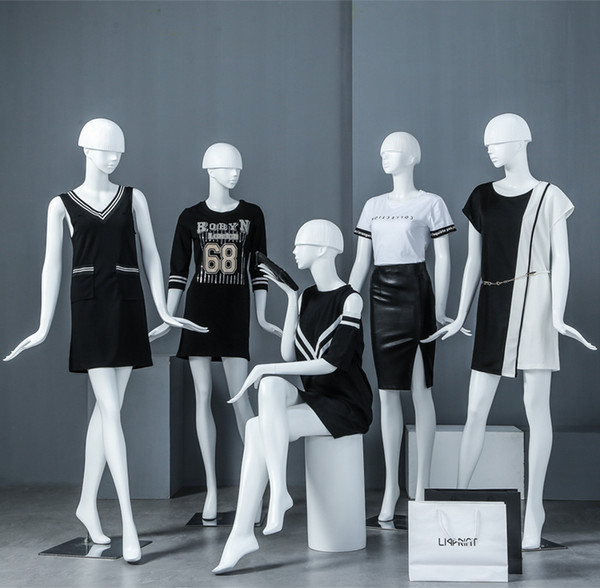person-like: (4, 115, 213, 568), (416, 108, 600, 554), (209, 213, 379, 576), (148, 136, 284, 527), (344, 125, 473, 527)
